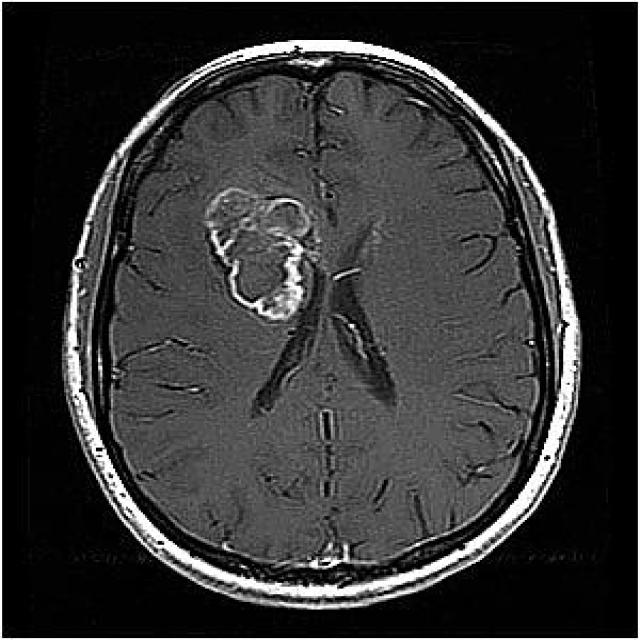Tumor-Cell: (188, 178, 324, 314)
